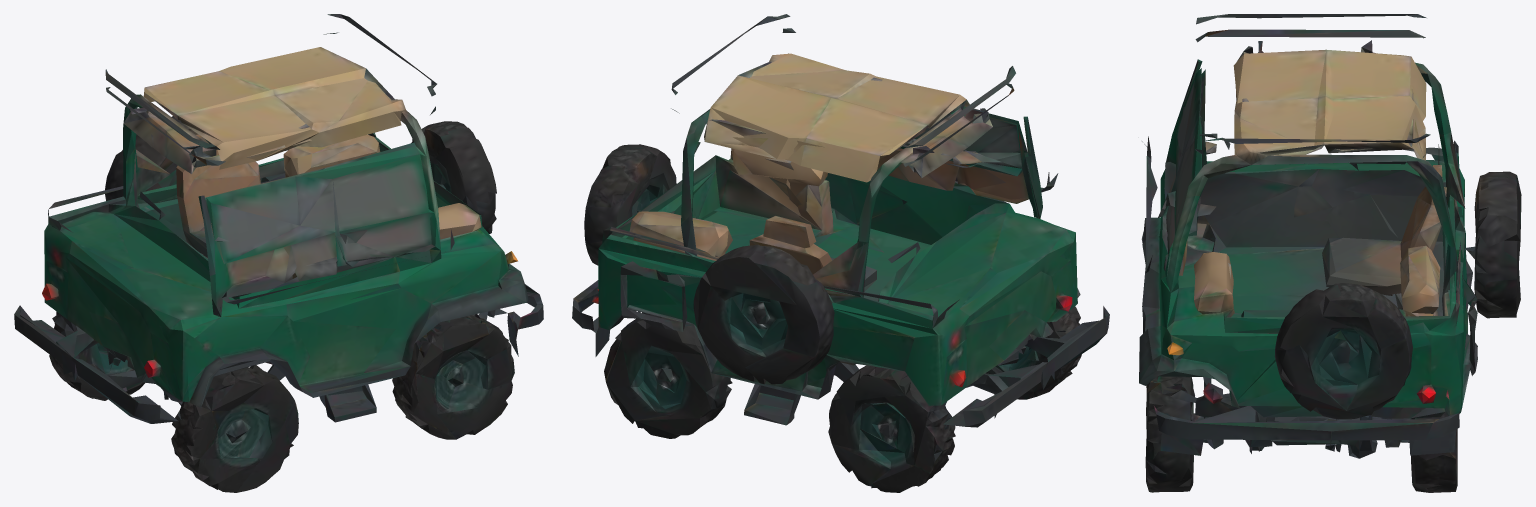
Rendered from scene_safari_jeep.glb.
3 views of the same model, side by side, from view 1: azimuth 30°, elevation 25°; view 2: azimuth 150°, elevation 25°; view 3: azimuth 270°, elevation 25° (orthographic). The views are drawn at different scales.
Size of the model in its own units: 1.89 by 1.45 by 1.42.
1 material, 1 textured.
